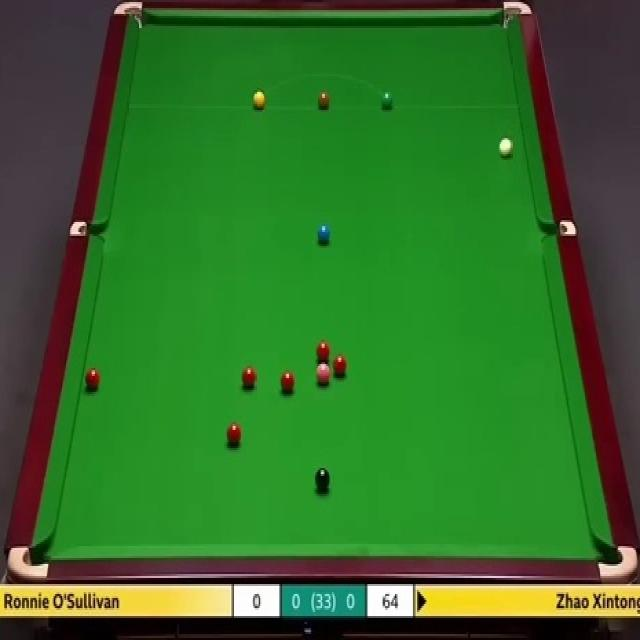black-ball: (316, 467, 330, 491)
blue-ball: (316, 225, 331, 242)
brown-ball: (320, 91, 330, 108)
green-ball: (381, 90, 392, 111)
pink-ball: (317, 363, 332, 386)
red-ball: (240, 365, 258, 389), (85, 367, 100, 391), (226, 421, 241, 444), (332, 354, 348, 374), (280, 370, 294, 390), (316, 342, 330, 359)
white-ball: (499, 136, 512, 160)
yellow-ball: (253, 90, 265, 110)
